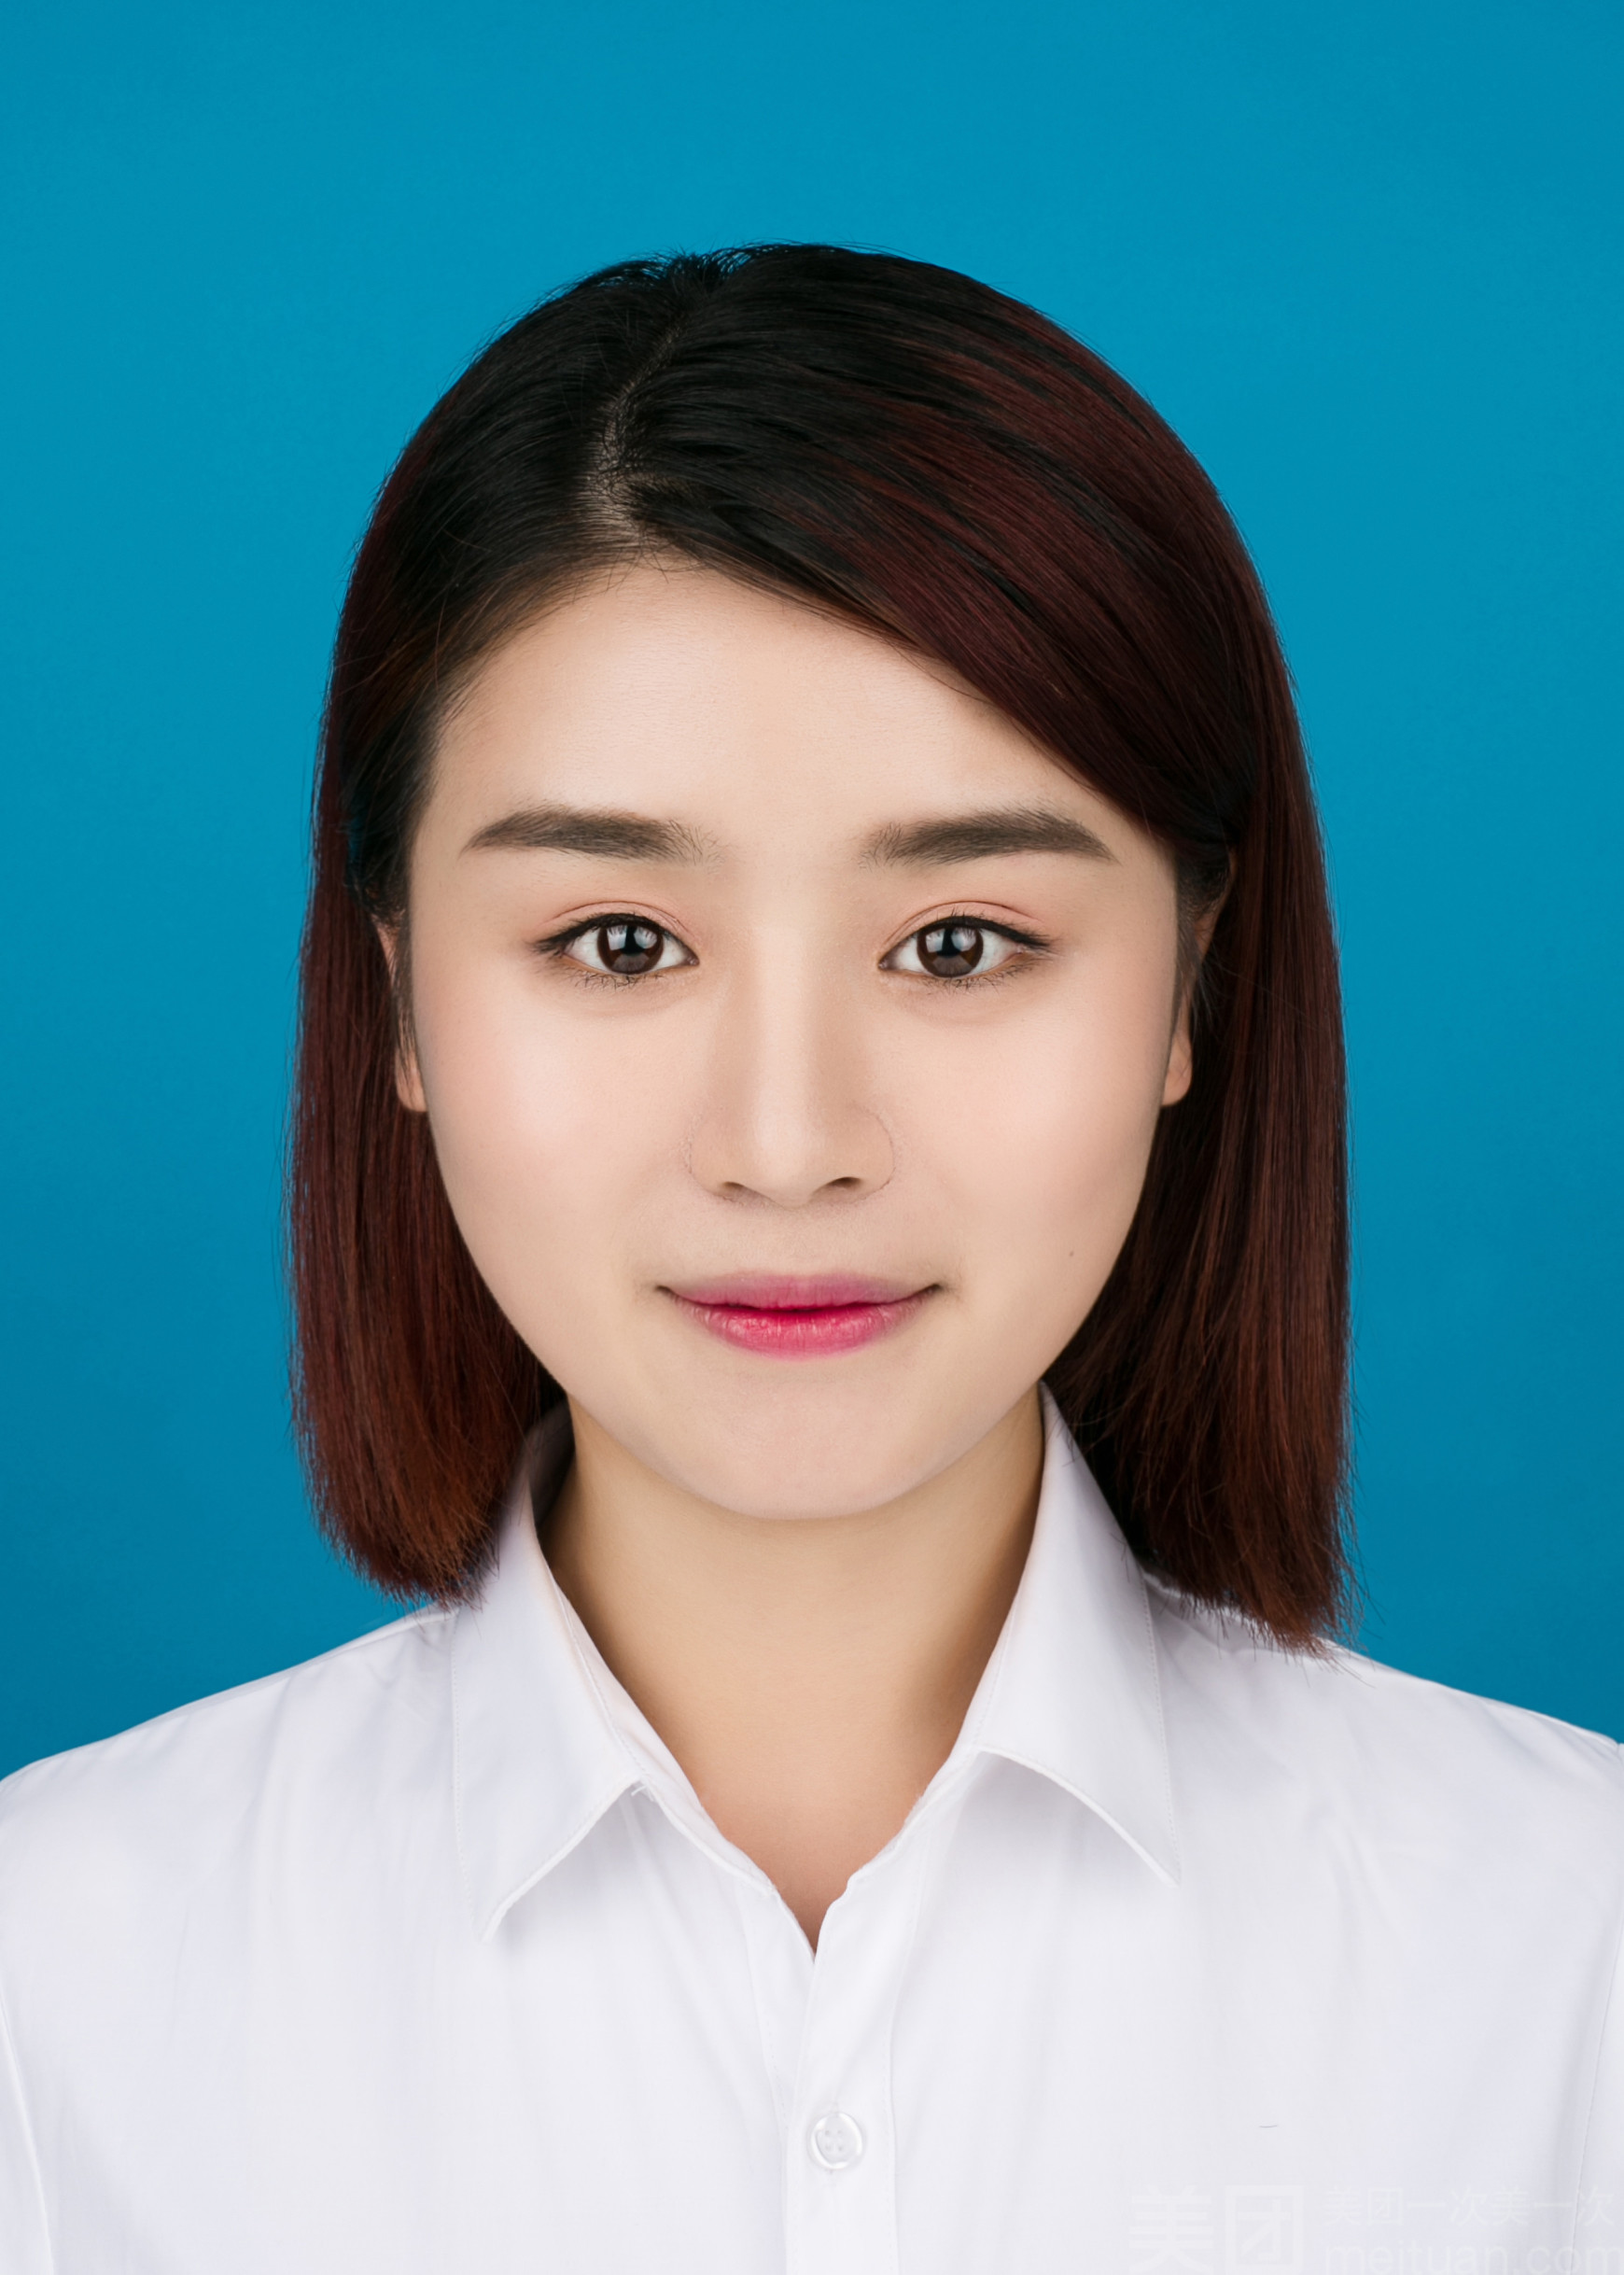unmask: (430, 624, 1221, 1495)
